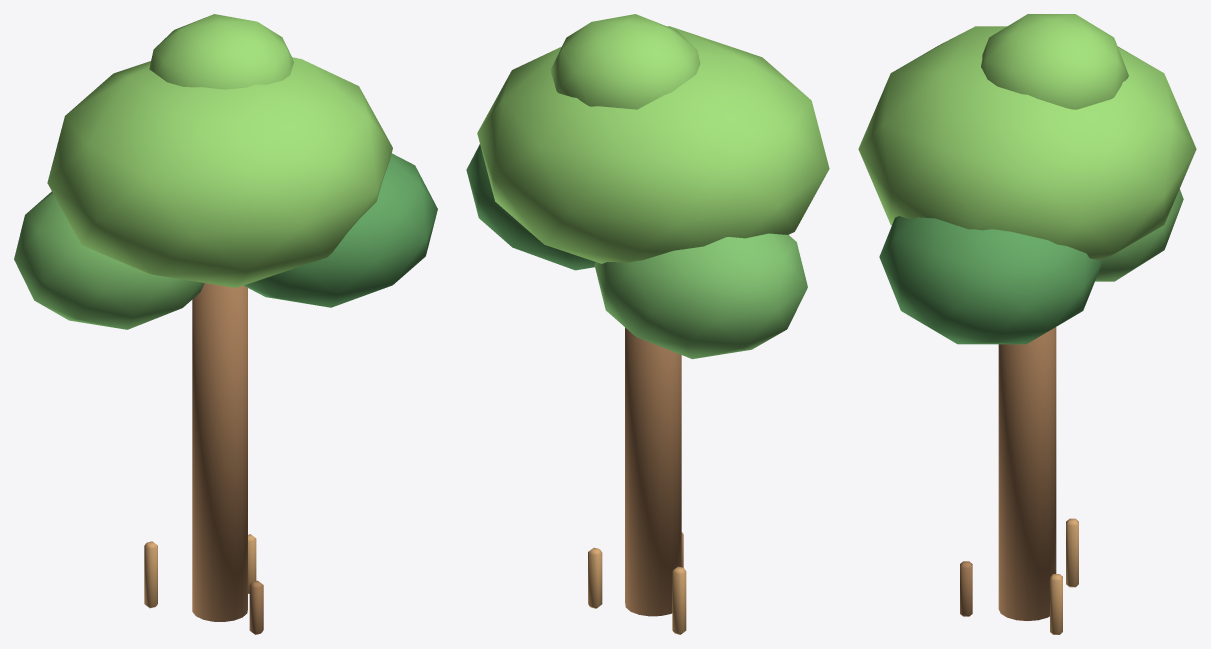
Rendered from gg-clay-mangrove.glb.
3 views of the same model, side by side, from view 1: azimuth 30°, elevation 25°; view 2: azimuth 150°, elevation 25°; view 3: azimuth 270°, elevation 25° (orthographic). The views are drawn at different scales.
Visible parts, largest first — view 1: Mangrove_Canopy.A, Mangrove_Trunk, Mangrove_Canopy.B, Mangrove_Canopy.C, Mangrove_Canopy.D, Mangrove_Root.A, Mangrove_Root.C; view 2: Mangrove_Canopy.A, Mangrove_Canopy.B, Mangrove_Trunk, Mangrove_Canopy.D, Mangrove_Canopy.C, Mangrove_Root.A, Mangrove_Root.B; view 3: Mangrove_Canopy.A, Mangrove_Canopy.C, Mangrove_Trunk, Mangrove_Canopy.D, Mangrove_Canopy.B, Mangrove_Root.A, Mangrove_Root.B, Mangrove_Root.C.
Boxes of the visible parts, x1,y1,x2,y2 form: Mangrove_Canopy.A: [47, 57, 392, 287]; Mangrove_Trunk: [192, 283, 247, 621]; Mangrove_Canopy.B: [14, 191, 204, 329]; Mangrove_Canopy.C: [244, 153, 437, 307]; Mangrove_Canopy.D: [149, 14, 293, 89]; Mangrove_Root.A: [144, 541, 157, 608]; Mangrove_Root.C: [249, 580, 263, 634]; Mangrove_Canopy.A: [477, 26, 829, 263]; Mangrove_Canopy.B: [594, 233, 807, 359]; Mangrove_Trunk: [625, 327, 681, 616]; Mangrove_Canopy.D: [550, 14, 700, 109]; Mangrove_Canopy.C: [466, 144, 595, 270]; Mangrove_Root.A: [672, 566, 686, 634]; Mangrove_Root.B: [588, 547, 602, 608]; Mangrove_Canopy.A: [858, 26, 1196, 260]; Mangrove_Canopy.C: [879, 216, 1103, 344]; Mangrove_Trunk: [998, 327, 1056, 620]; Mangrove_Canopy.D: [981, 14, 1128, 109]; Mangrove_Canopy.B: [1095, 189, 1183, 281]; Mangrove_Root.A: [1066, 518, 1078, 587]; Mangrove_Root.B: [1050, 574, 1062, 634]; Mangrove_Root.C: [960, 561, 972, 616].
Bounding box in the file's own units: 2.58 × 4.1 × 2.1.
